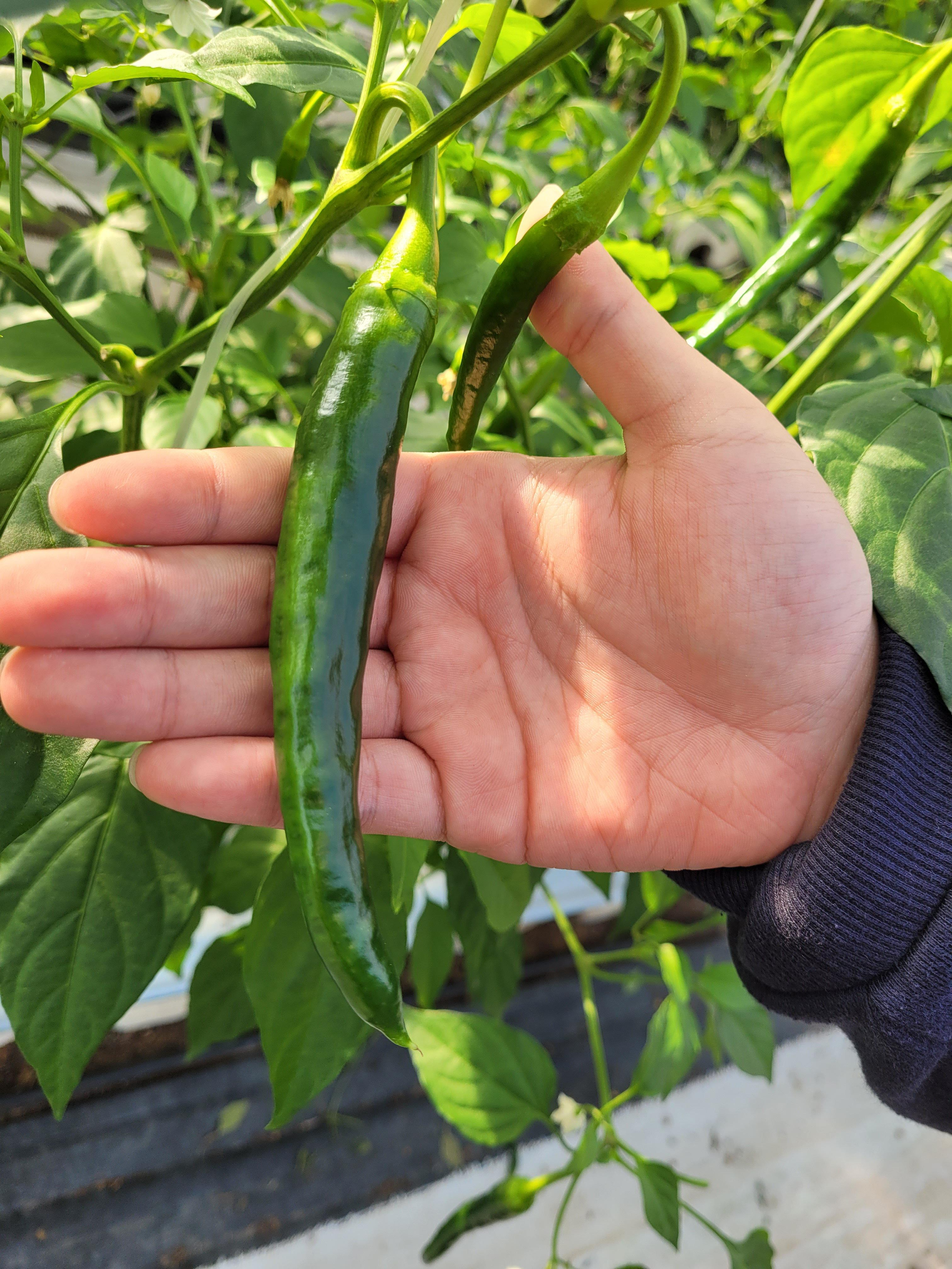Buah Cabai Sehat: (266, 161, 444, 1052)
